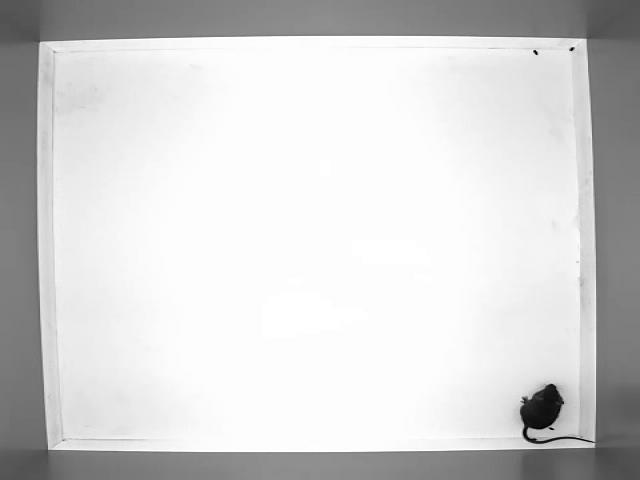Tikus: (520, 383, 597, 445)
